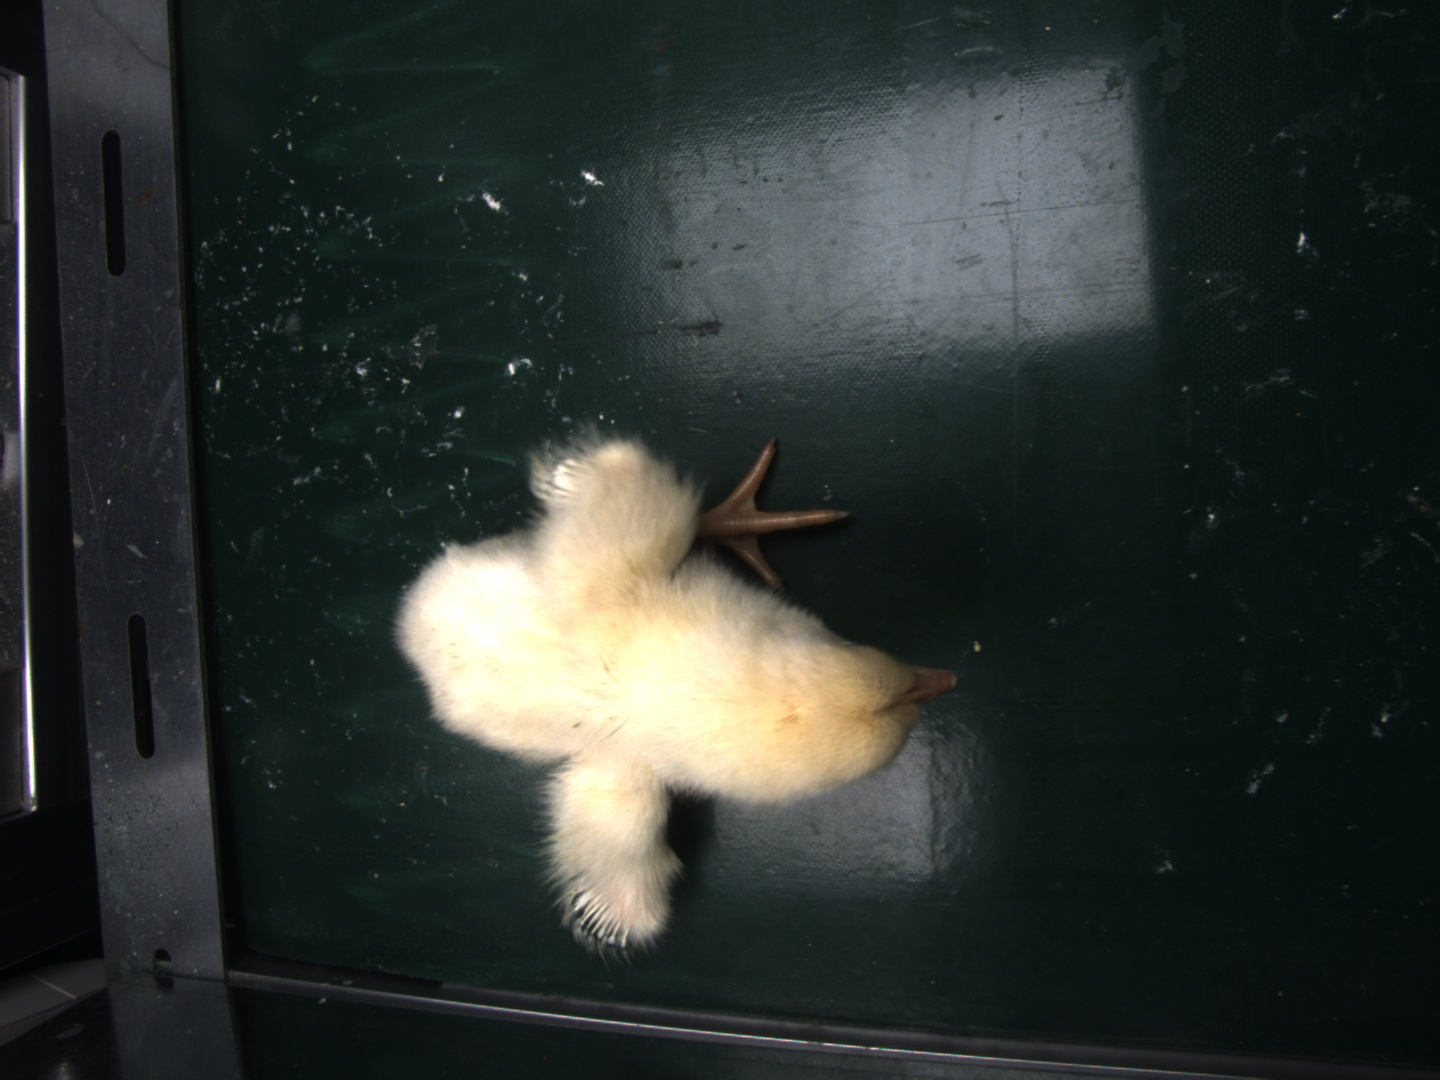male: (570, 886, 636, 957)
